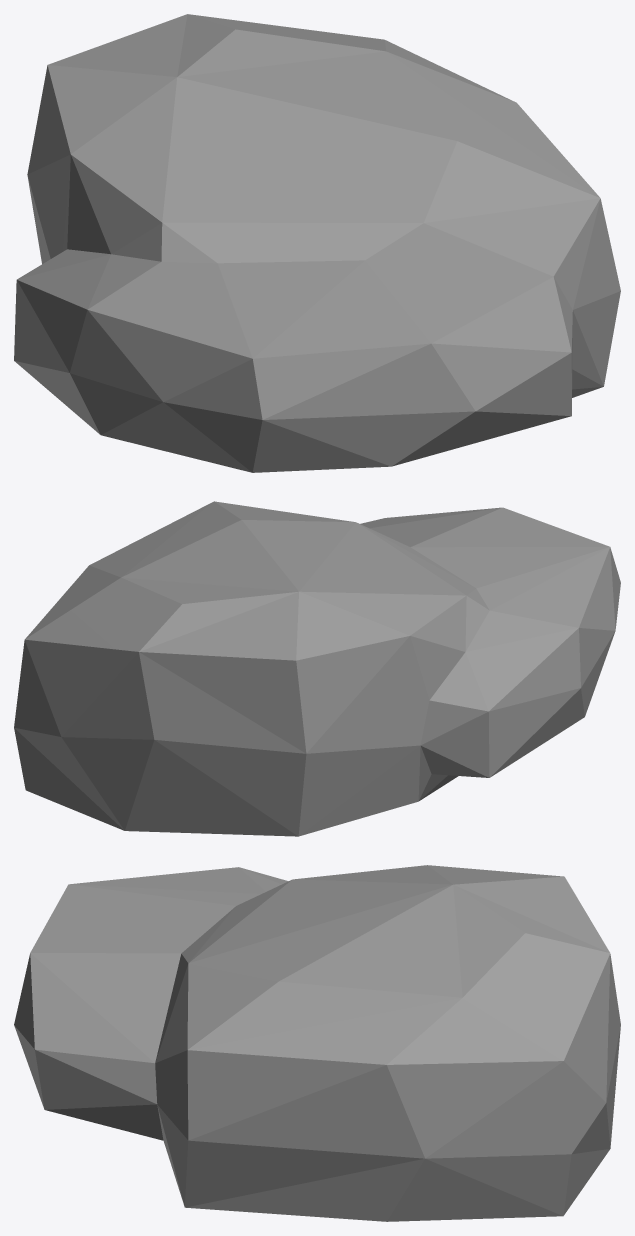
File: rock__rock6_natural_light.glb
3 views of the same model, one above another, from view 1: azimuth 30°, elevation 25°; view 2: azimuth 150°, elevation 25°; view 3: azimuth 270°, elevation 25° (orthographic). The views are drawn at different scales.
Parts seen in each view (by area): view 1: rock6.natural.light; view 2: rock6.natural.light; view 3: rock6.natural.light.
Part boxes in pixels (x1,y1,x2,y2): rock6.natural.light: (14,14,620,472); rock6.natural.light: (14,501,620,836); rock6.natural.light: (14,865,620,1221).
Bounding box in the file's own units: 2.7 × 1.34 × 3.14.
Materials: 1 (1 with a texture image).
